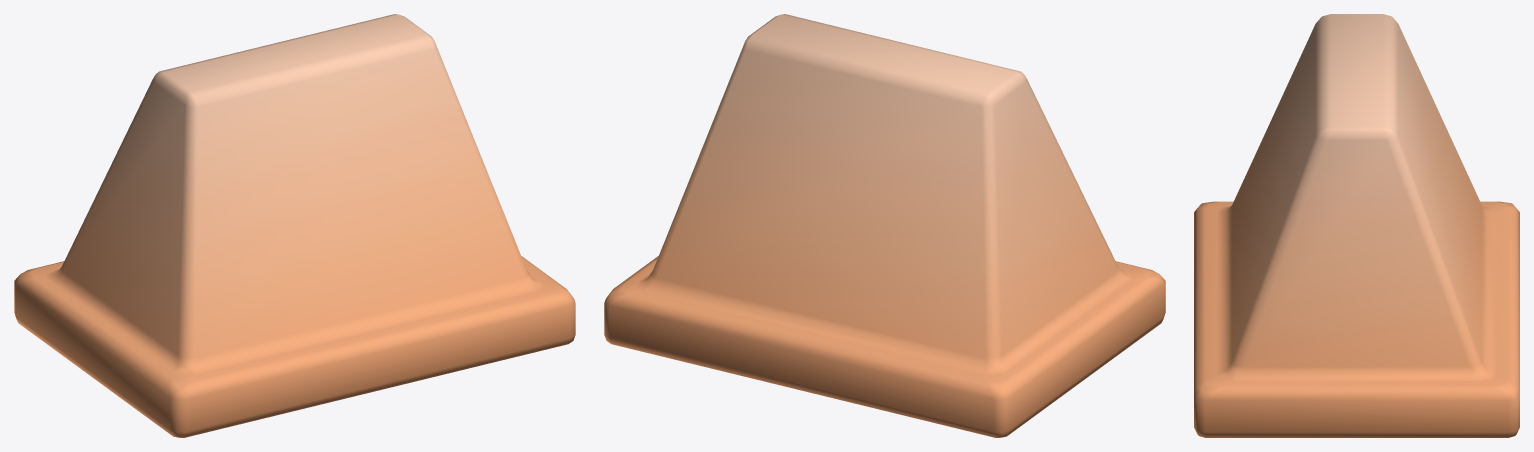
Rendered from candy_choco_9.fbx.
The picture shows the model from 3 angles, left to right: view 1: azimuth 30°, elevation 25°; view 2: azimuth 150°, elevation 25°; view 3: azimuth 270°, elevation 25°; orthographic projection. The views are drawn at different scales.
Visible parts, largest first — view 1: c_c_9; view 2: c_c_9; view 3: c_c_9.
Part boxes in pixels (box(x1,y1,x2,y2)): c_c_9: box(14, 14, 575, 437); c_c_9: box(604, 14, 1165, 437); c_c_9: box(1194, 14, 1519, 437).
Bounding box in the file's own units: 134 × 88.84 × 95.22.
